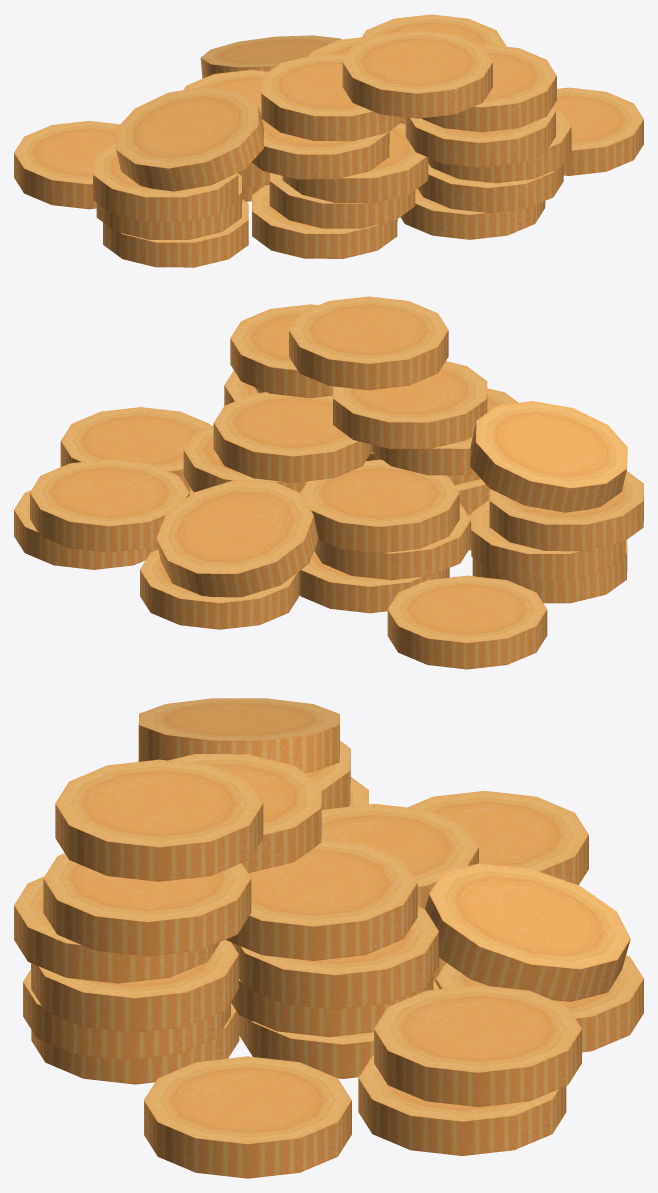
3 views of the same model, one above another, from view 1: azimuth 30°, elevation 25°; view 2: azimuth 150°, elevation 25°; view 3: azimuth 270°, elevation 25° (orthographic). The views are drawn at different scales.
Visible parts, largest first — view 1: submesh_0; view 2: submesh_0; view 3: submesh_0.
Part boxes in pixels (<box>): submesh_0: <box>14,14,643,267</box>; submesh_0: <box>14,296,643,669</box>; submesh_0: <box>14,698,643,1178</box>.
Bounding box in the file's own units: 0.3423 × 0.0927 × 0.2547.
Materials: 1 (1 with a texture image).
